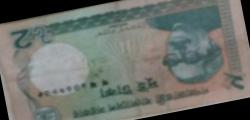2 taka: (8, 1, 241, 120)
